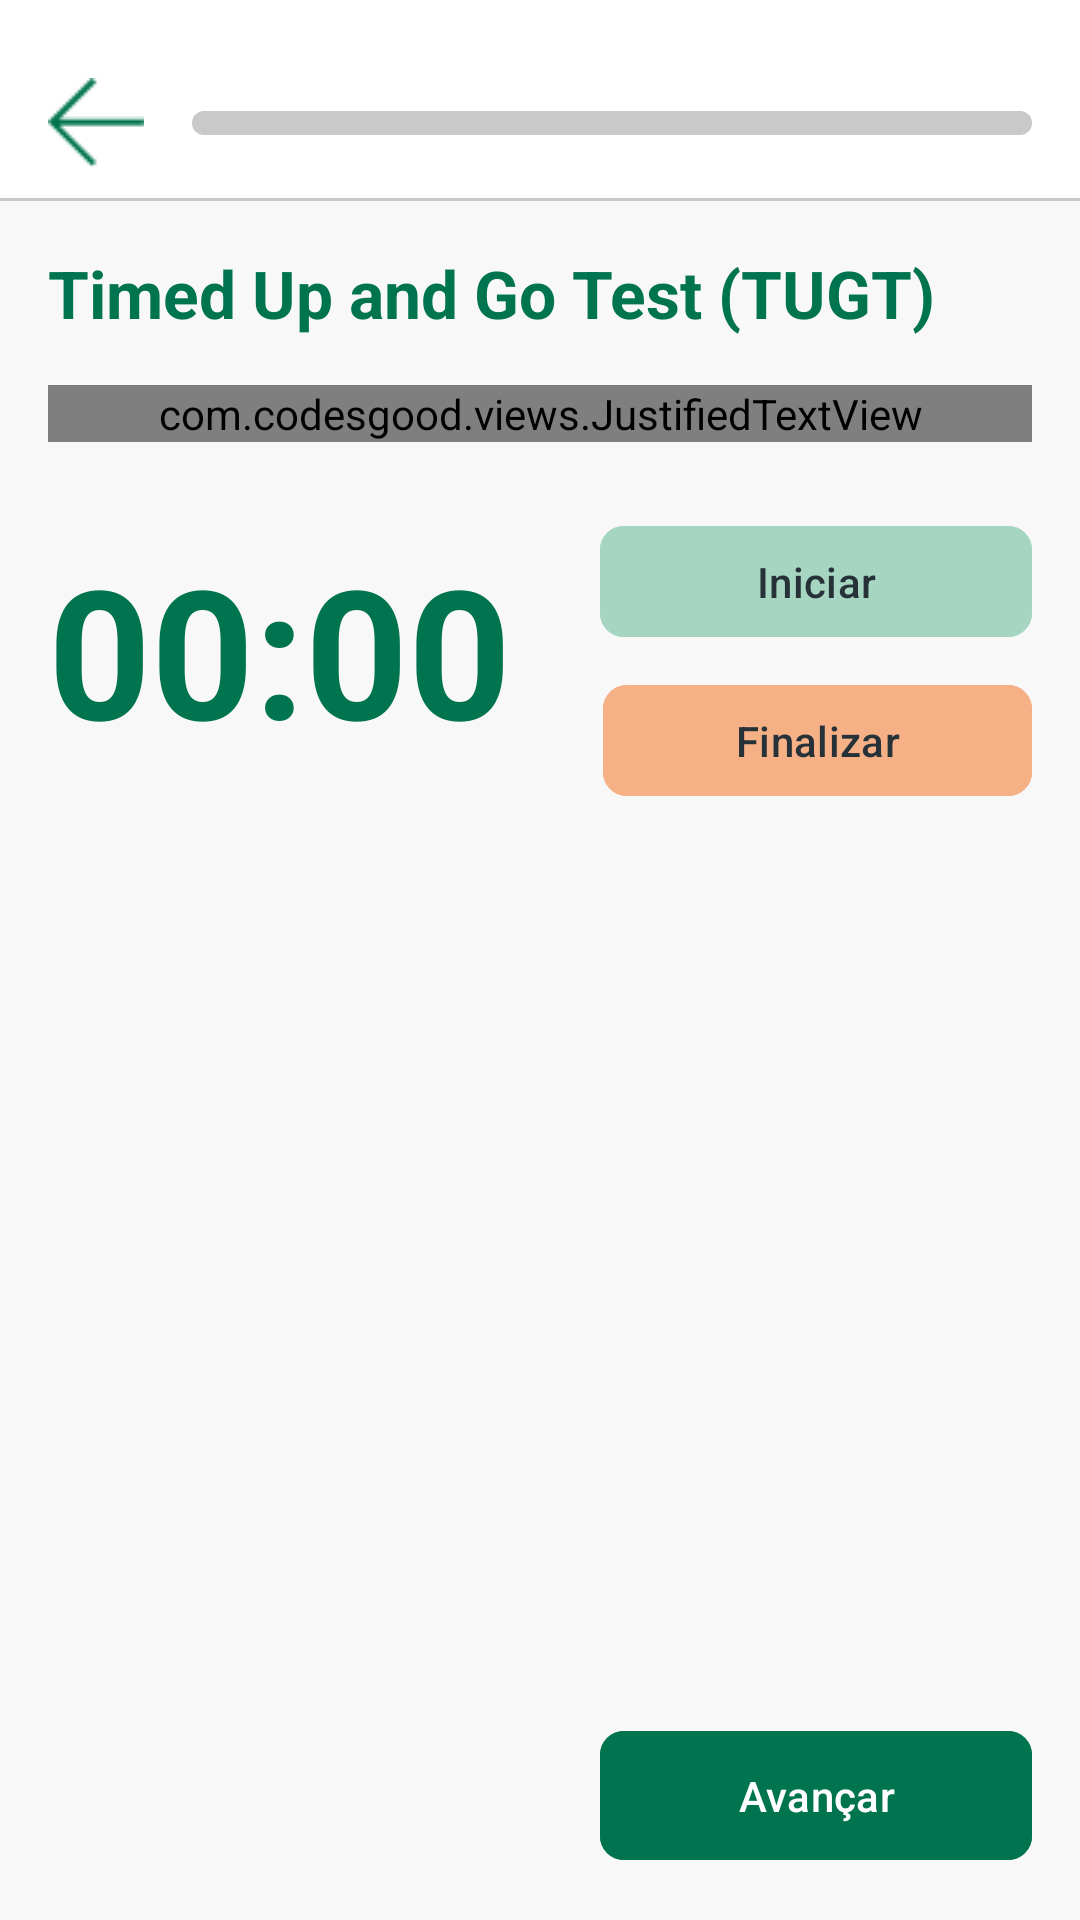

Icon bounding boxes for this 1080x1920 phone screenshot, format box(x1, y1, x2, y2):
Voltar: box(48, 78, 144, 166)
